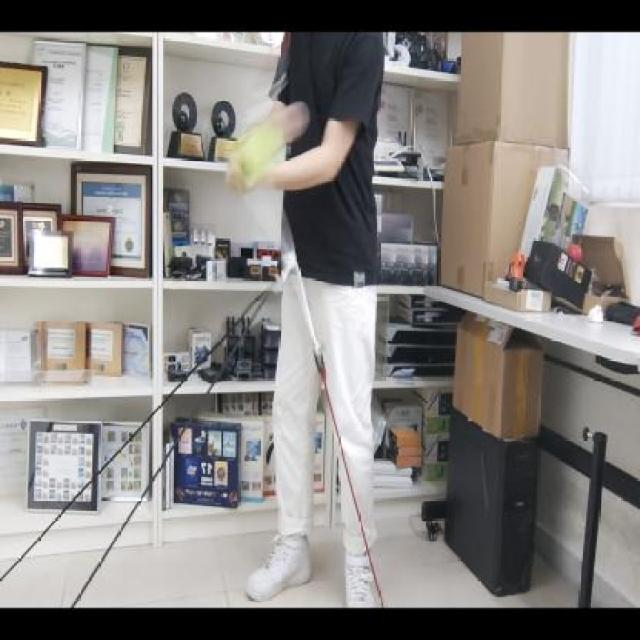baseball: (233, 111, 281, 191)
